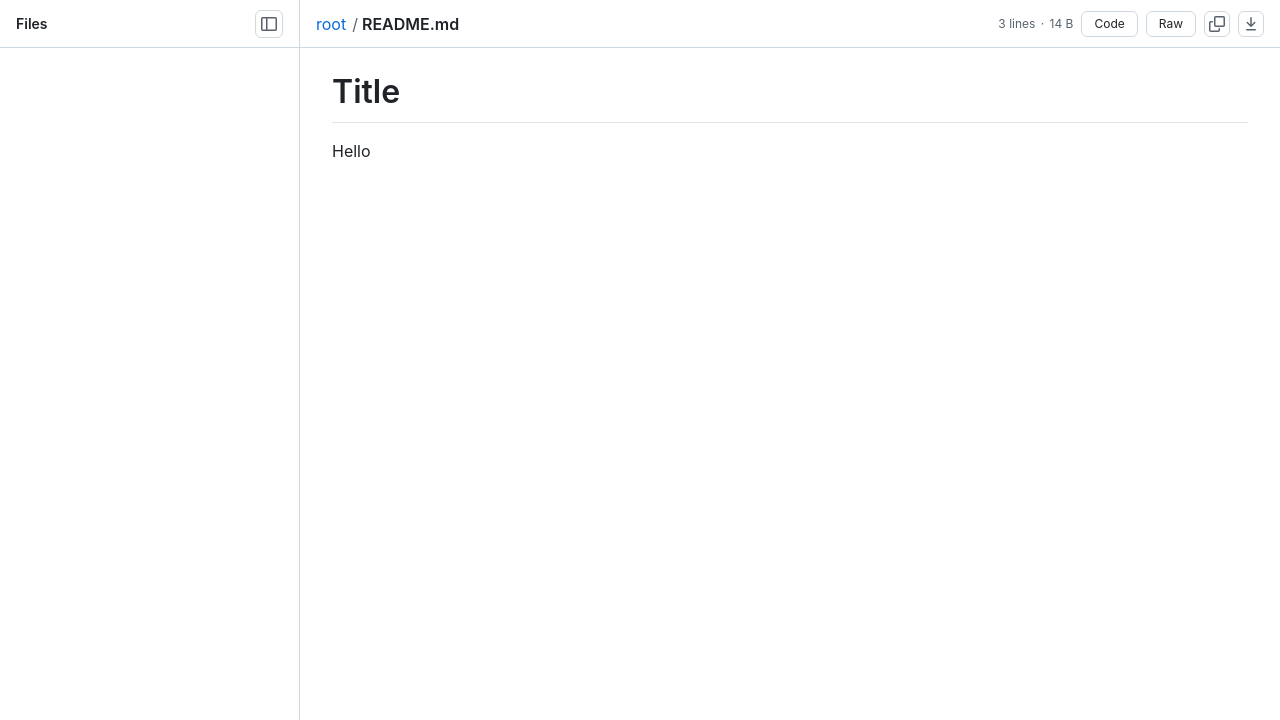
Test case: App › shows file actions in the header row and toggles Code/Preview
The image size is (1280, 720).
expect the element with class "file-meta" shows "3 lines": met, box [998,14,1073,32]
expect the element with class "markdown-body" is shown: met, box [300,48,1279,187]
Click the button with class "toggle-source".
click(1110, 24)  # box [1082,10,1138,36]
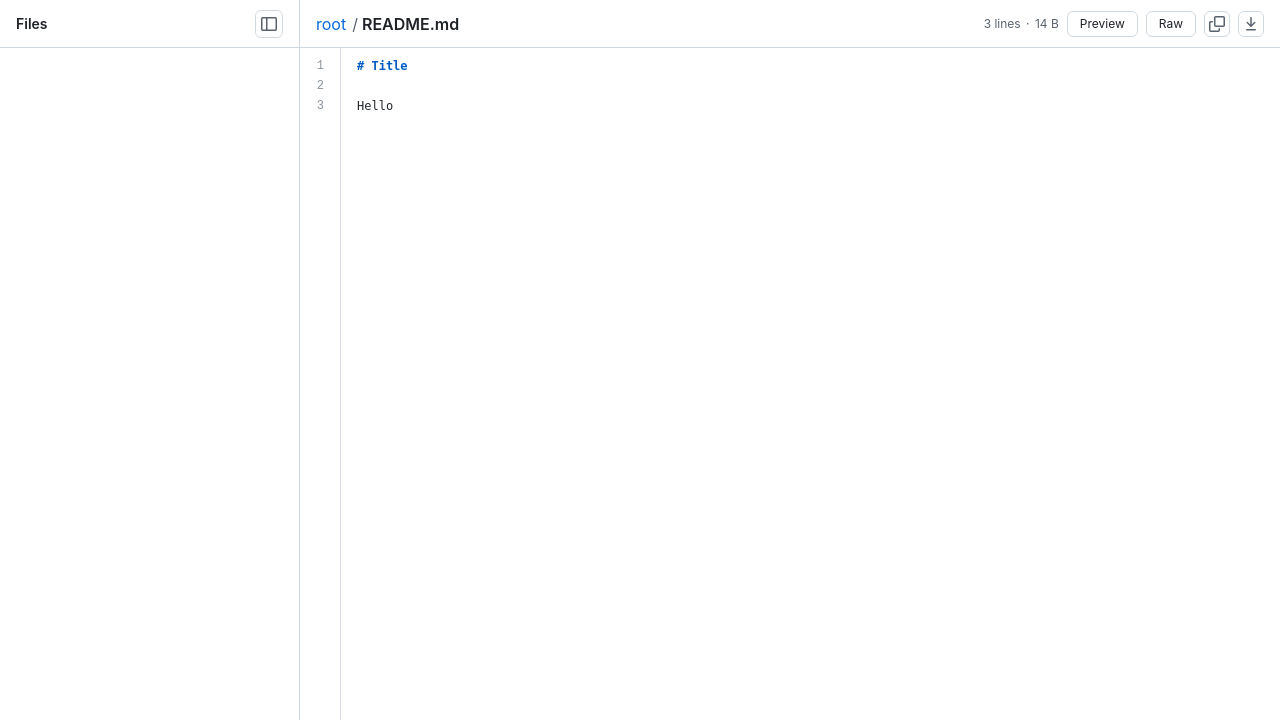
expect the element with class "markdown-body" is gone: met
expect the element with class "code-view" is shown: met
